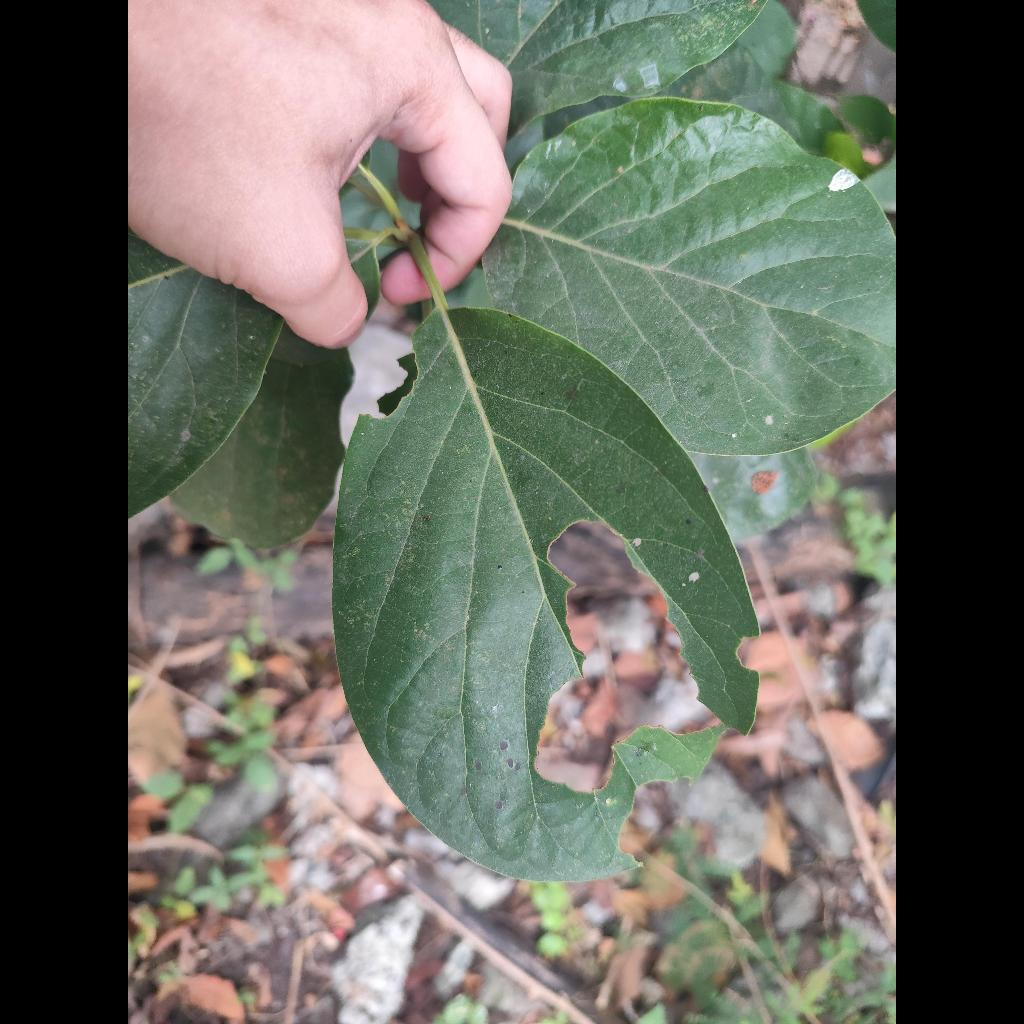Pest Infested: (333, 308, 758, 881)
